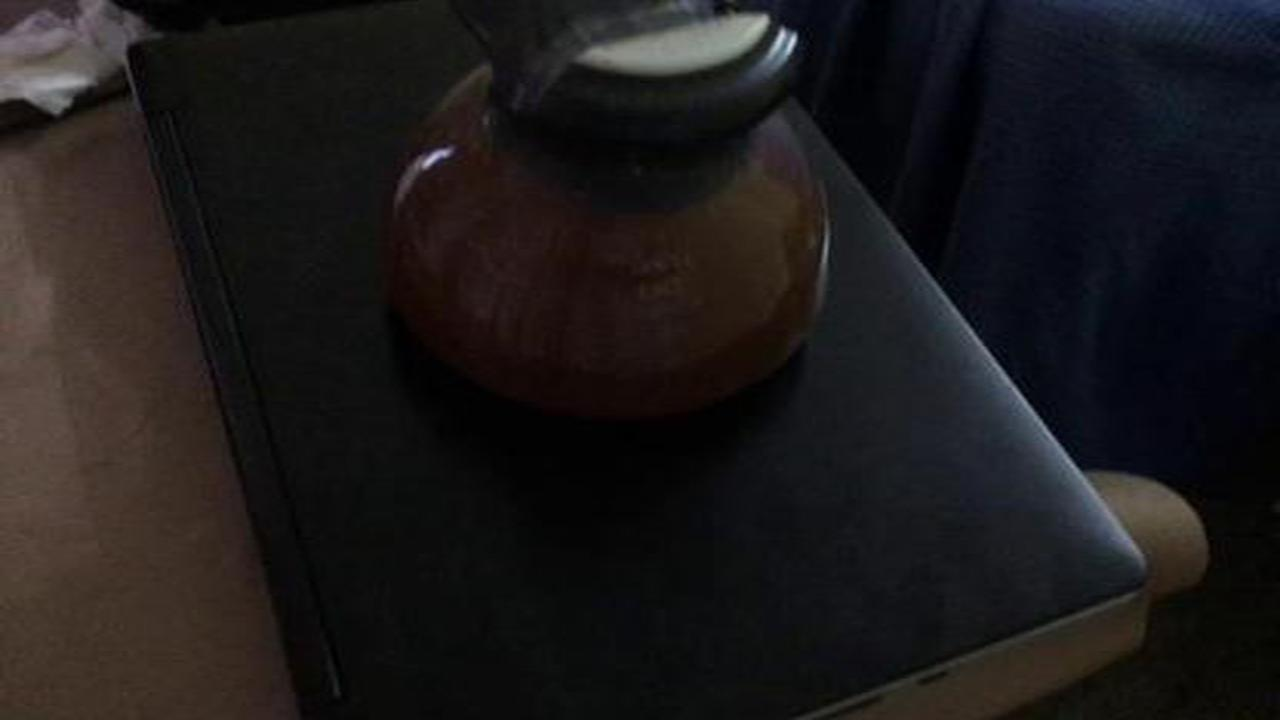insulator_pin: (366, 1, 856, 437)
